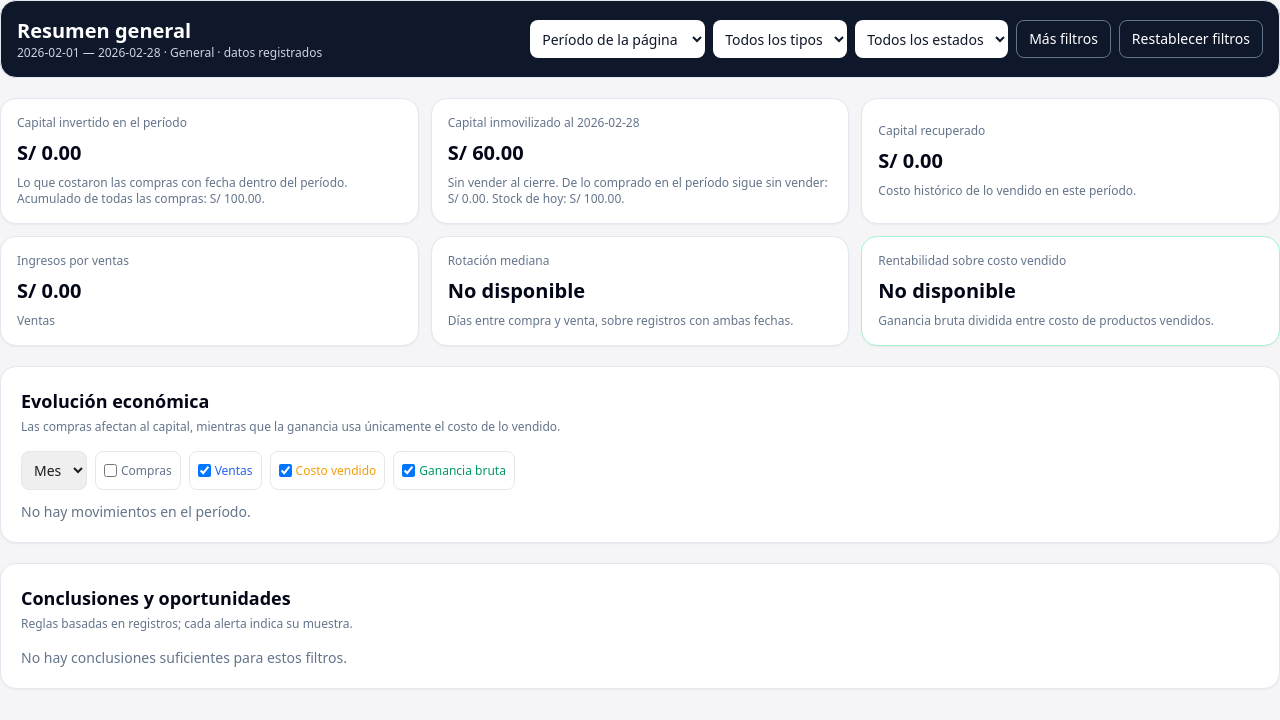
Test: con un período, el capital invertido e inmovilizado siguen al período; con Todo, el acumulado
Check: the button "Capital inmovilizado al 2026-02-28" shows "S/ 60.00", box top-left (431, 98), bottom-right (849, 224)
Check: the button "Capital inmovilizado al 2026-02-28" shows "Stock de hoy: S/ 100.00", box top-left (431, 98), bottom-right (849, 224)
Click the button "Capital invertido en el período" at (102, 122), box top-left (0, 98), bottom-right (419, 224)
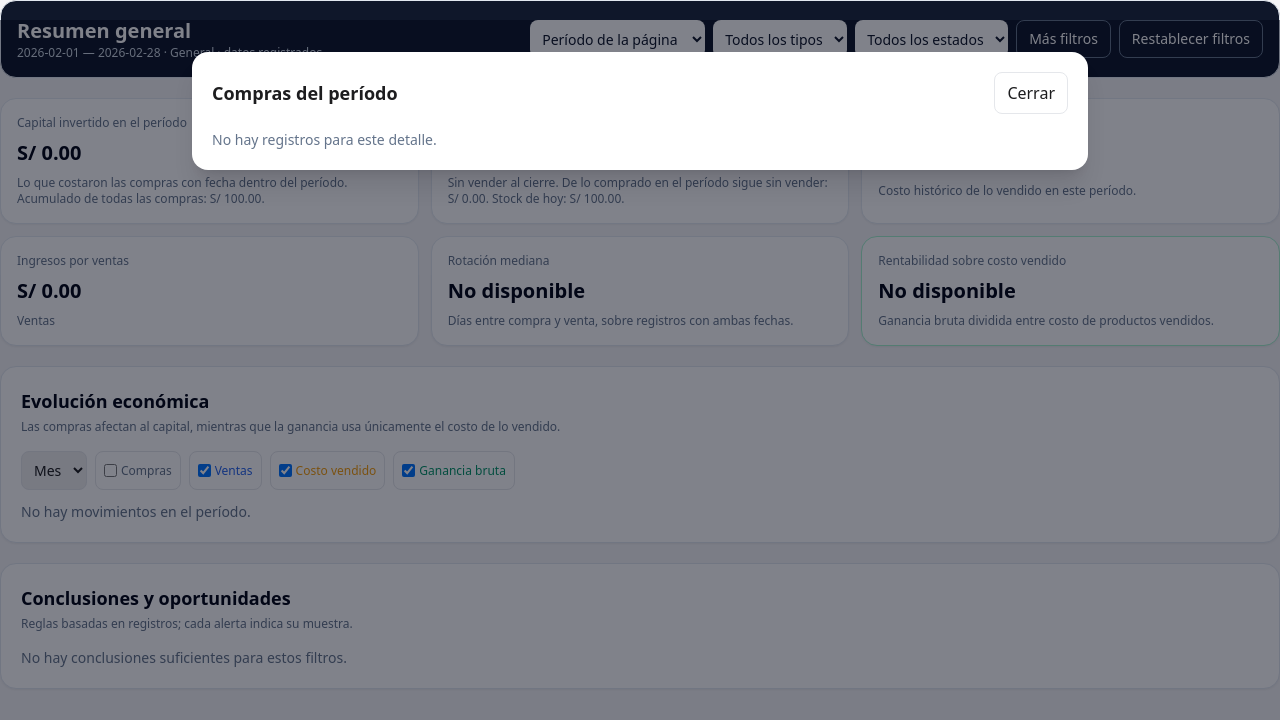
Click the button "Cerrar" at (1031, 93), box top-left (994, 72), bottom-right (1068, 114)
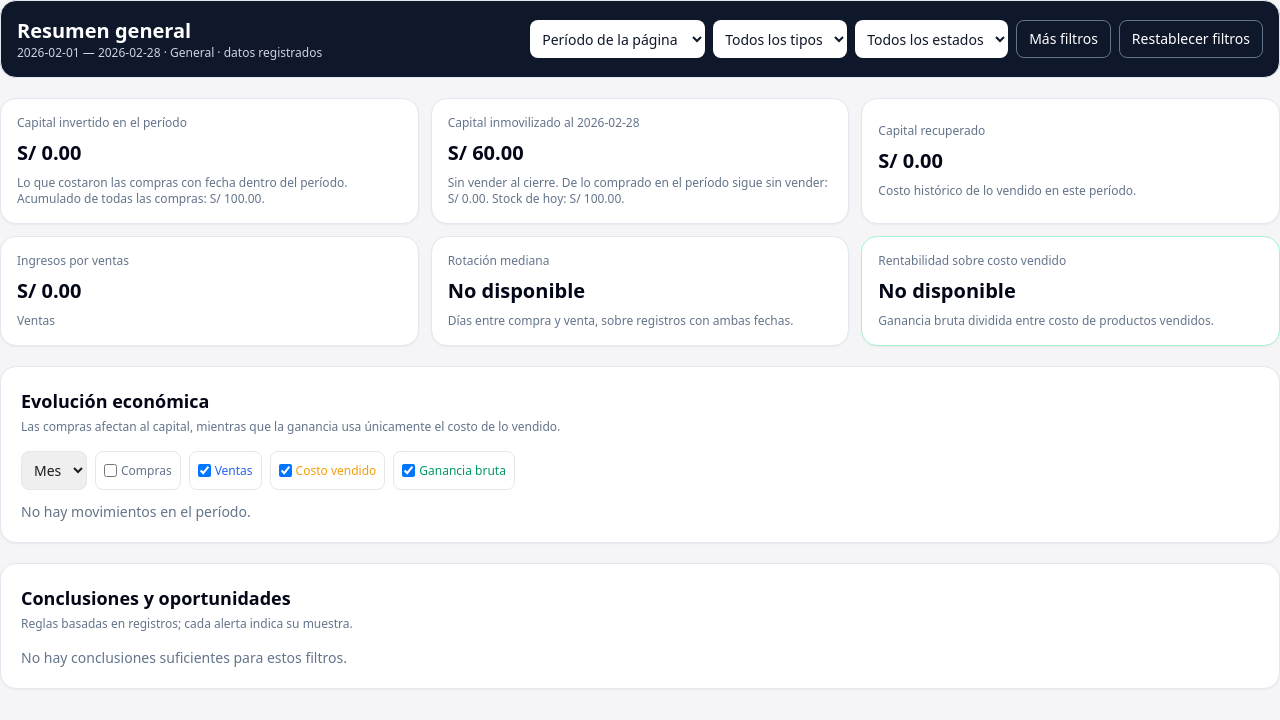
Select "Todo" in the dropdown named "Período financiero" at (618, 39), box top-left (530, 20), bottom-right (705, 58)
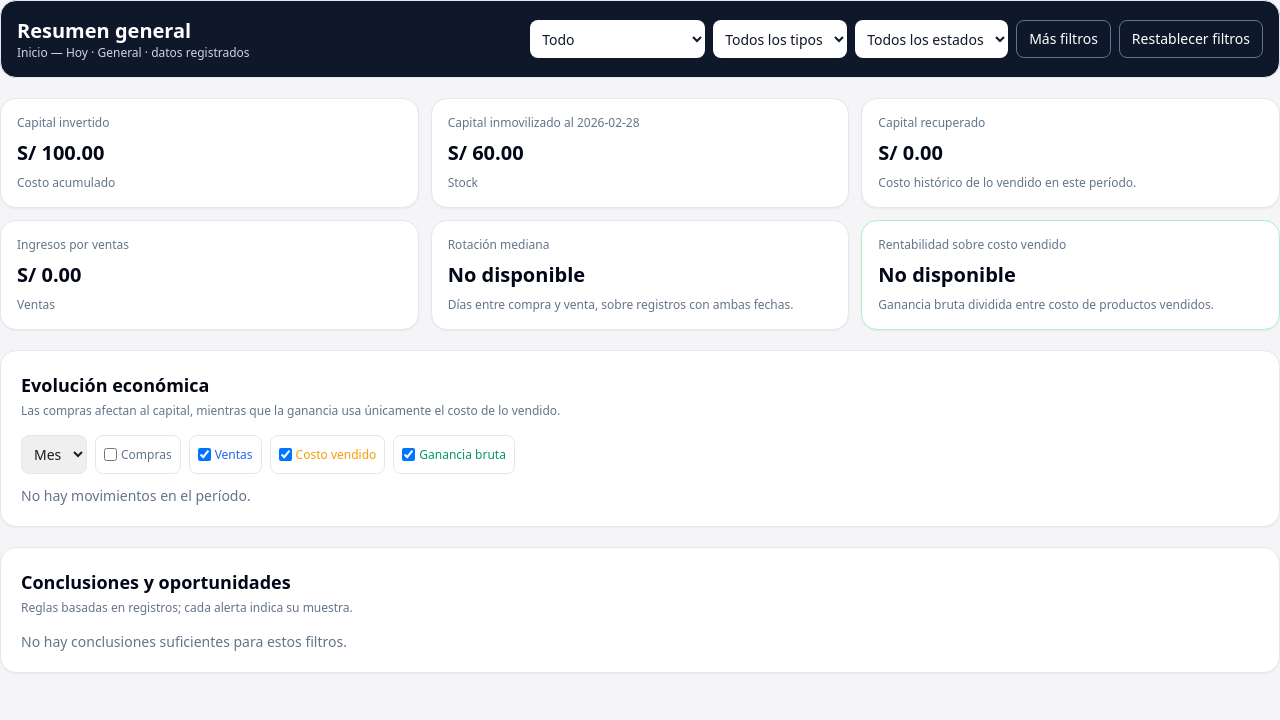
Click the button "Capital invertido S/ 100.00 Costo acumulado" at (63, 122), box top-left (0, 98), bottom-right (419, 208)
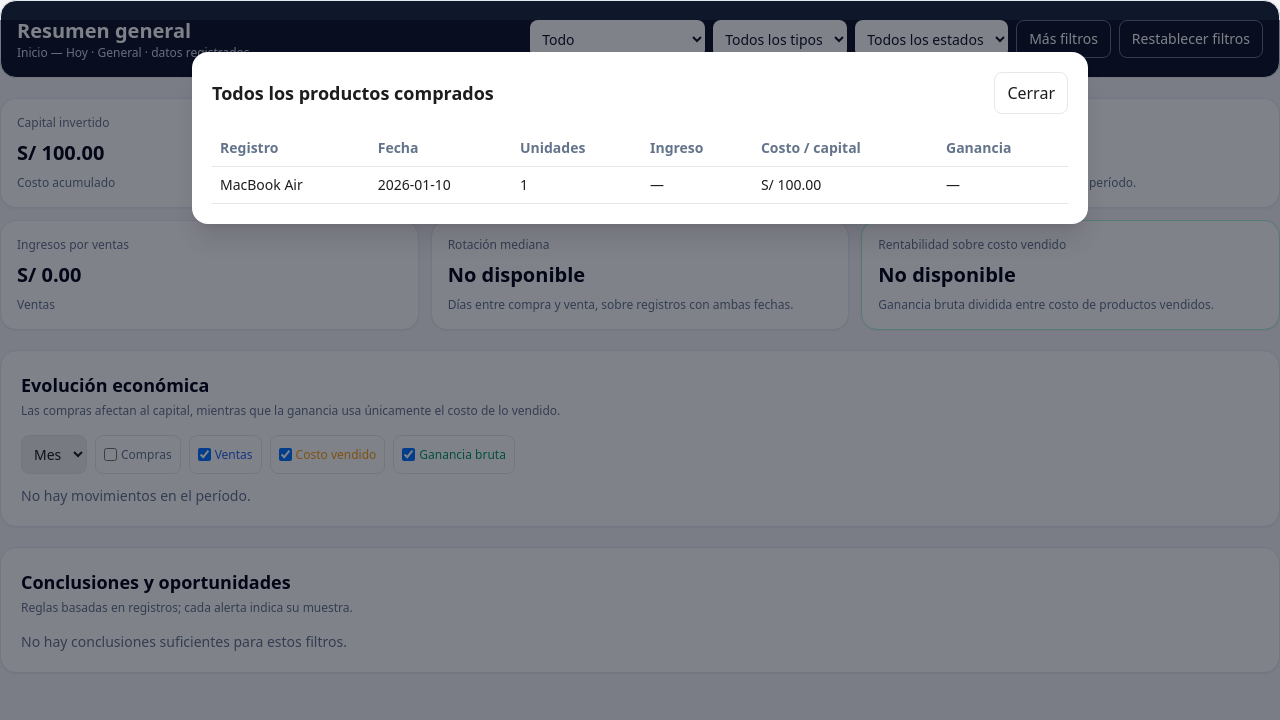
Check: the dialog "Todos los productos comprados" shows "MacBook Air", box top-left (220, 175), bottom-right (303, 194)
